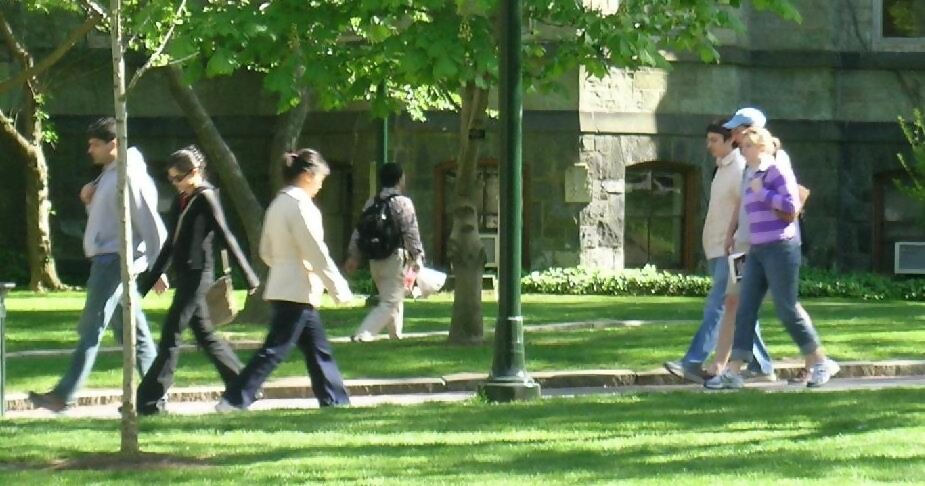person: (220, 147, 366, 412), (40, 113, 167, 413), (144, 146, 239, 407), (334, 154, 416, 338)
